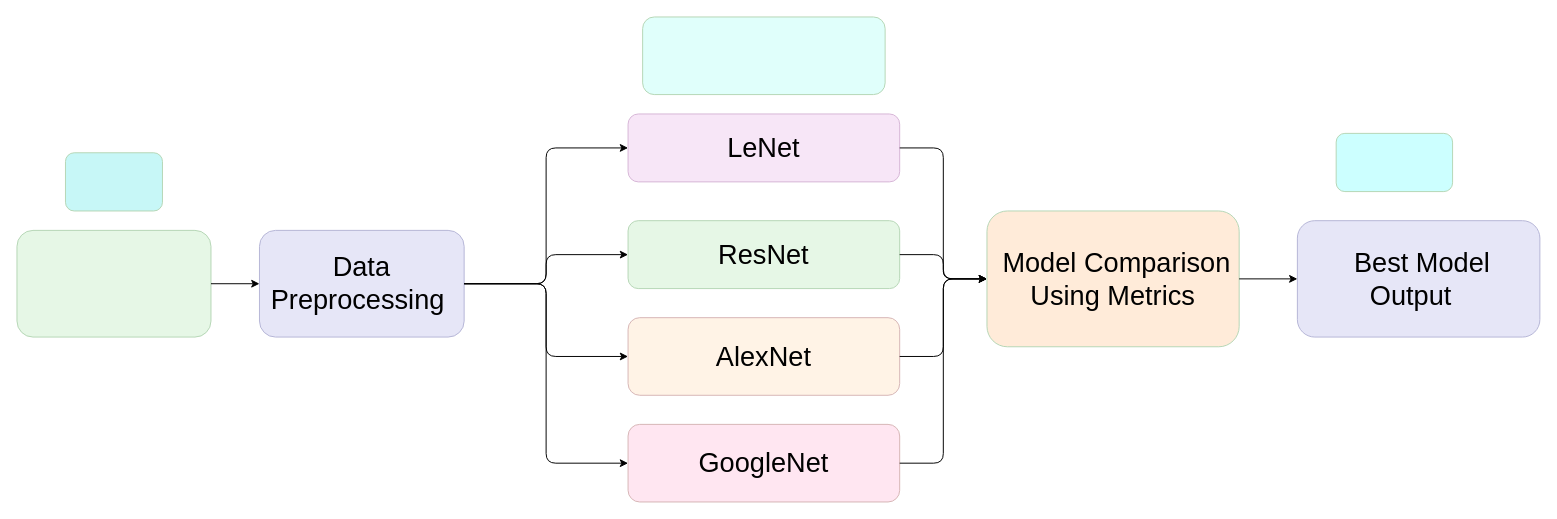
Image size: 1557x519. Some labels were removed from this diagram. Here are the shapes that lost their labels. From the top down, the centre of each, then its label:
point 763,55: Training Models
point 113,181: I/P
point 1394,162: O/P
point 113,283: EEG Signals
